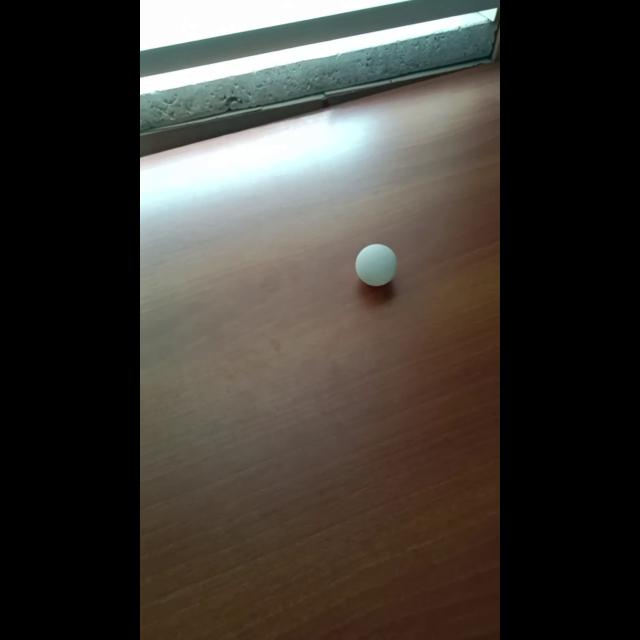white ball: (355, 243, 397, 287)
